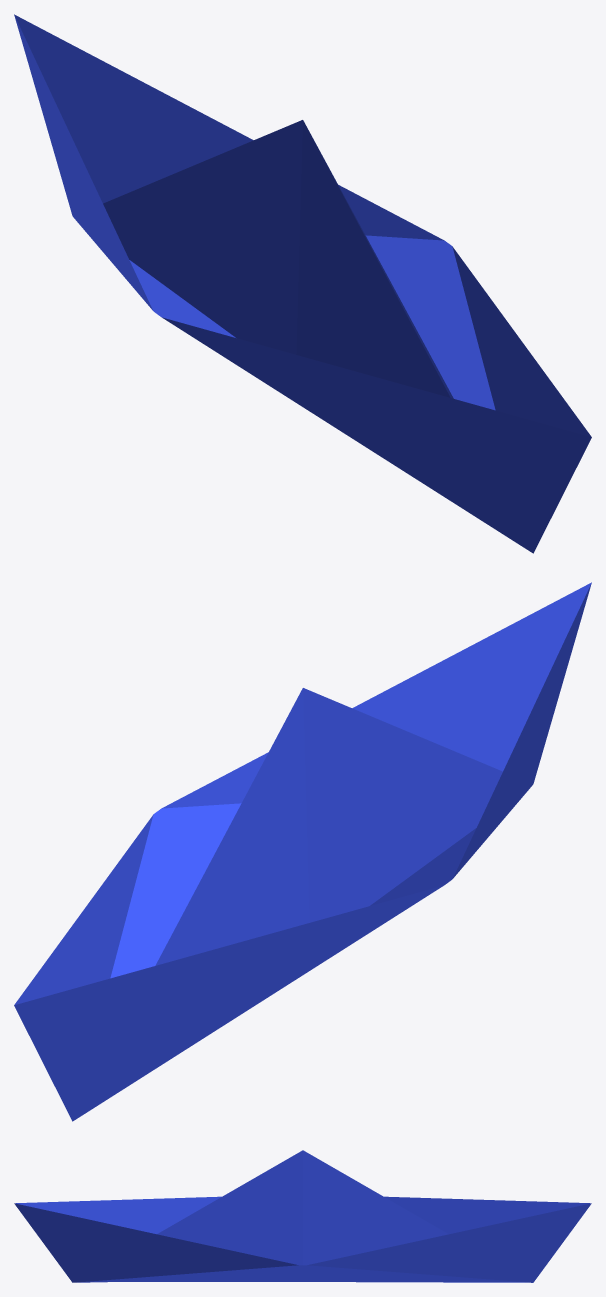
Rendered from paper_ship.glb.
The picture shows the model from 3 angles, top to bottom: view 1: azimuth 30°, elevation 25°; view 2: azimuth 150°, elevation 25°; view 3: azimuth 270°, elevation 25°; orthographic projection. The views are drawn at different scales.
Parts seen in each view (by area): view 1: Plane; view 2: Plane; view 3: Plane.
Part boxes in pixels (x1,y1,x2,y2): Plane: (14, 14, 591, 553); Plane: (14, 582, 591, 1121); Plane: (14, 1150, 591, 1282).
Bounding box in the file's own units: 5.74 × 5 × 19.74.
